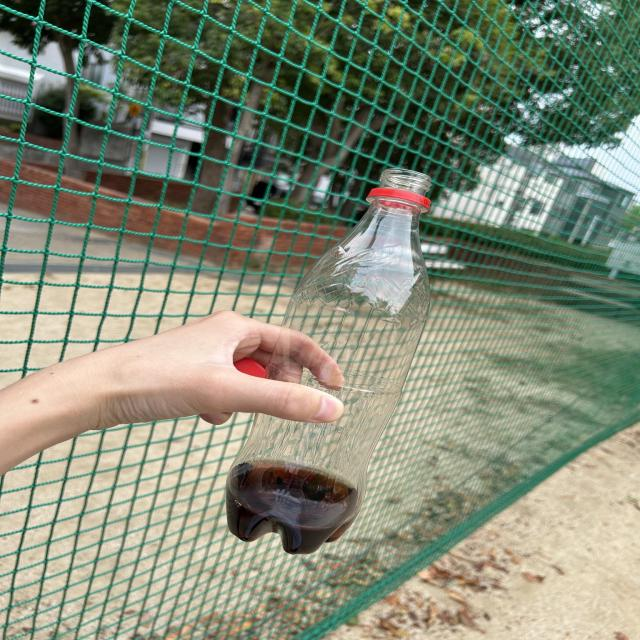low: (227, 169, 430, 553)
